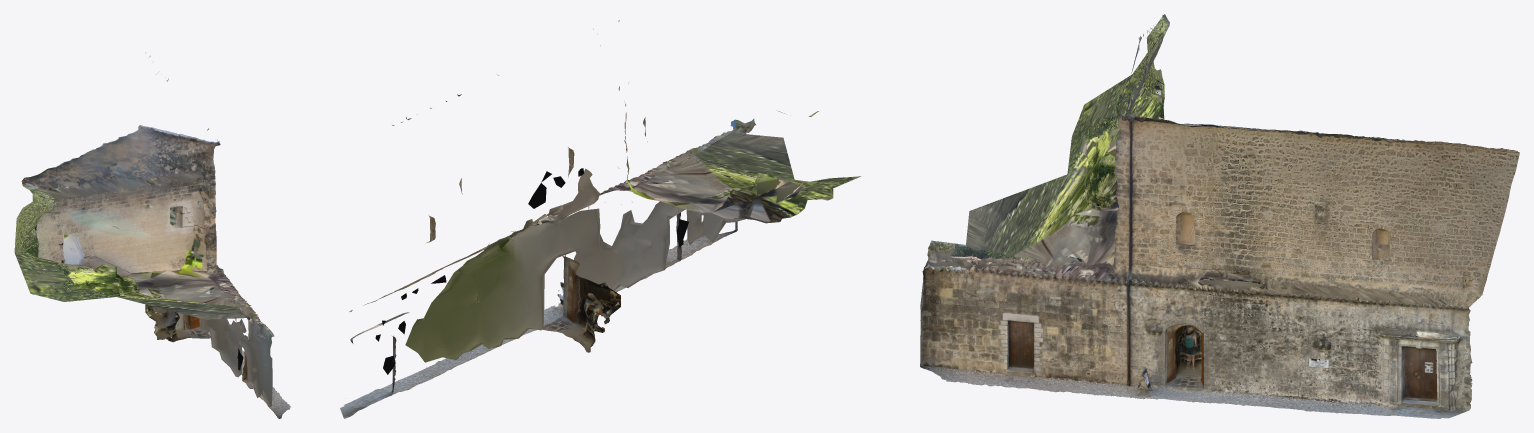
3 renders of one model, left to right at view 1: azimuth 30°, elevation 25°; view 2: azimuth 150°, elevation 25°; view 3: azimuth 270°, elevation 25°, orthographic. The views are drawn at different scales.
Parts seen in each view (by area): view 1: high.016; view 2: high.016; view 3: high.016.
Boxes of the visible parts, x1,y1,x2,y2 form: high.016: [14, 55, 290, 418]; high.016: [340, 20, 860, 418]; high.016: [920, 14, 1519, 418].
Bounding box in the file's own units: 13.86 × 12.05 × 21.43.
Materials: 1 (1 with a texture image).
